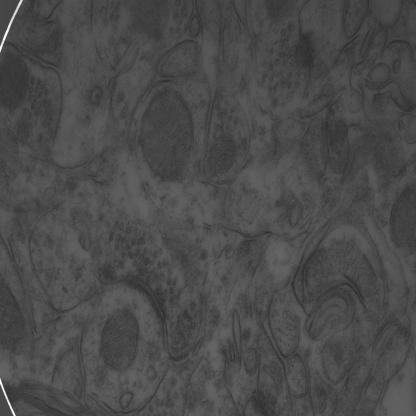mitochondria: (140, 89, 193, 184), (100, 310, 140, 370), (209, 136, 238, 175)
